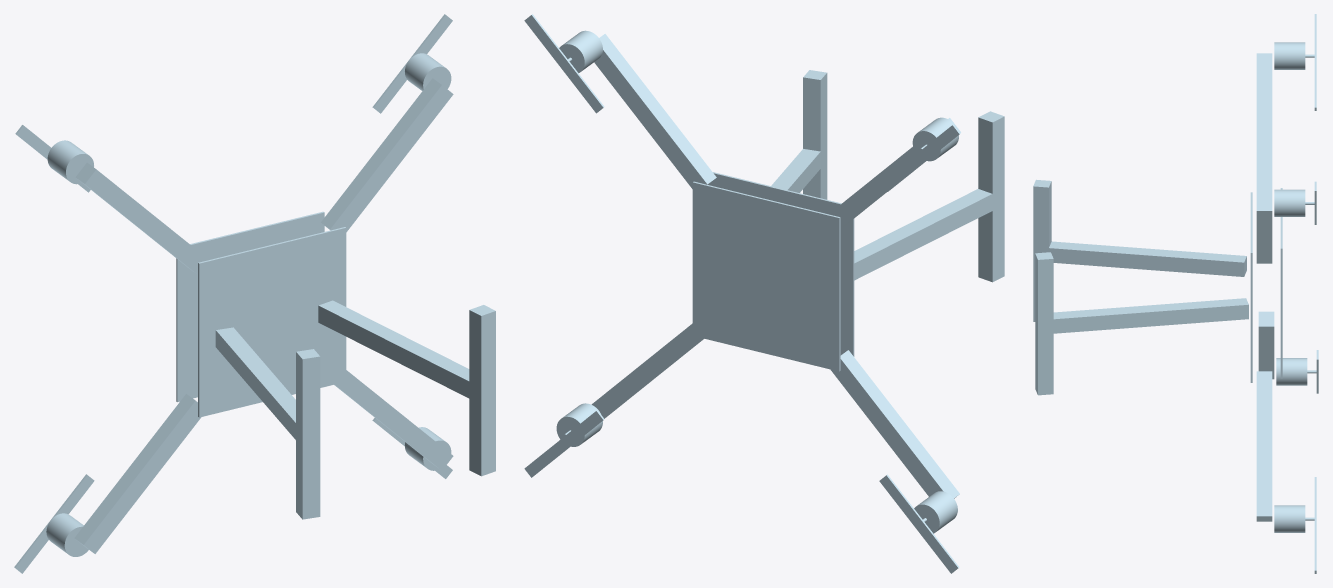
3 renders of one model, left to right at view 1: azimuth 30°, elevation 25°; view 2: azimuth 150°, elevation 25°; view 3: azimuth 270°, elevation 25°, orthographic. The views are drawn at different scales.
Parts seen in each view (by area): view 1: Assembly 1; view 2: Assembly 1; view 3: Assembly 1.
Part boxes in pixels (bbox=[...]): Assembly 1: bbox=[14, 14, 495, 573]; Assembly 1: bbox=[524, 14, 1004, 573]; Assembly 1: bbox=[1033, 14, 1318, 573].
Size of the model in its own units: 42.74 by 43.45 by 28.66.
